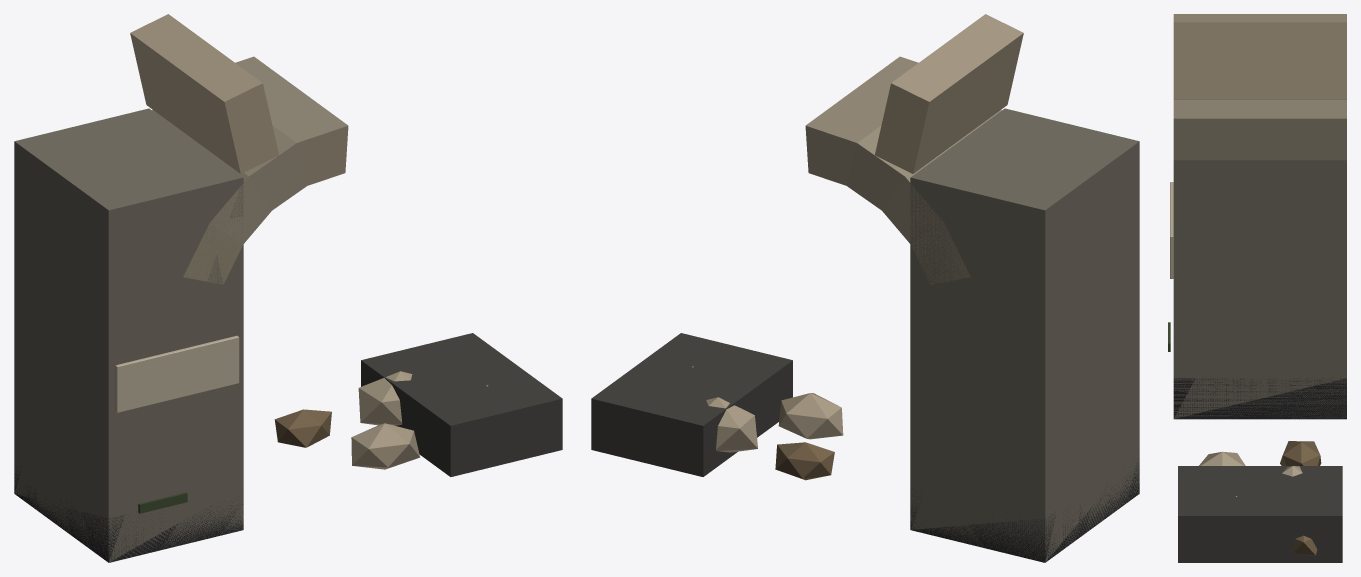
The picture shows the model from 3 angles, left to right: view 1: azimuth 30°, elevation 25°; view 2: azimuth 150°, elevation 25°; view 3: azimuth 270°, elevation 25°; orthographic projection. The views are drawn at different scales.
Parts seen in each view (by area): view 1: WK_Stone_A09_RuinArch_Collapsed4m_LOD0; view 2: WK_Stone_A09_RuinArch_Collapsed4m_LOD0; view 3: WK_Stone_A09_RuinArch_Collapsed4m_LOD0.
Part boxes in pixels (<box>): WK_Stone_A09_RuinArch_Collapsed4m_LOD0: <box>14,14,562,562</box>; WK_Stone_A09_RuinArch_Collapsed4m_LOD0: <box>591,14,1139,562</box>; WK_Stone_A09_RuinArch_Collapsed4m_LOD0: <box>1168,14,1346,562</box>.
Bounding box in the file's own units: 4.4 × 4 × 1.6.
